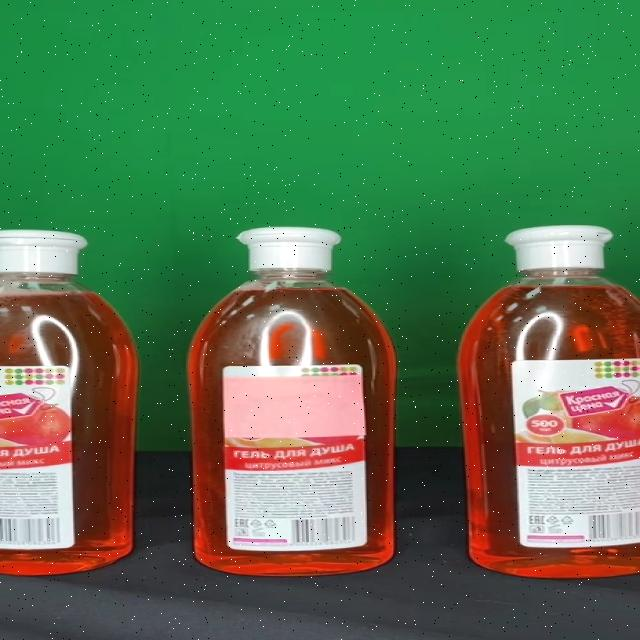Bottle: (187, 226, 398, 577), (458, 226, 640, 578)
Cap: (505, 226, 614, 270), (237, 228, 342, 270)
